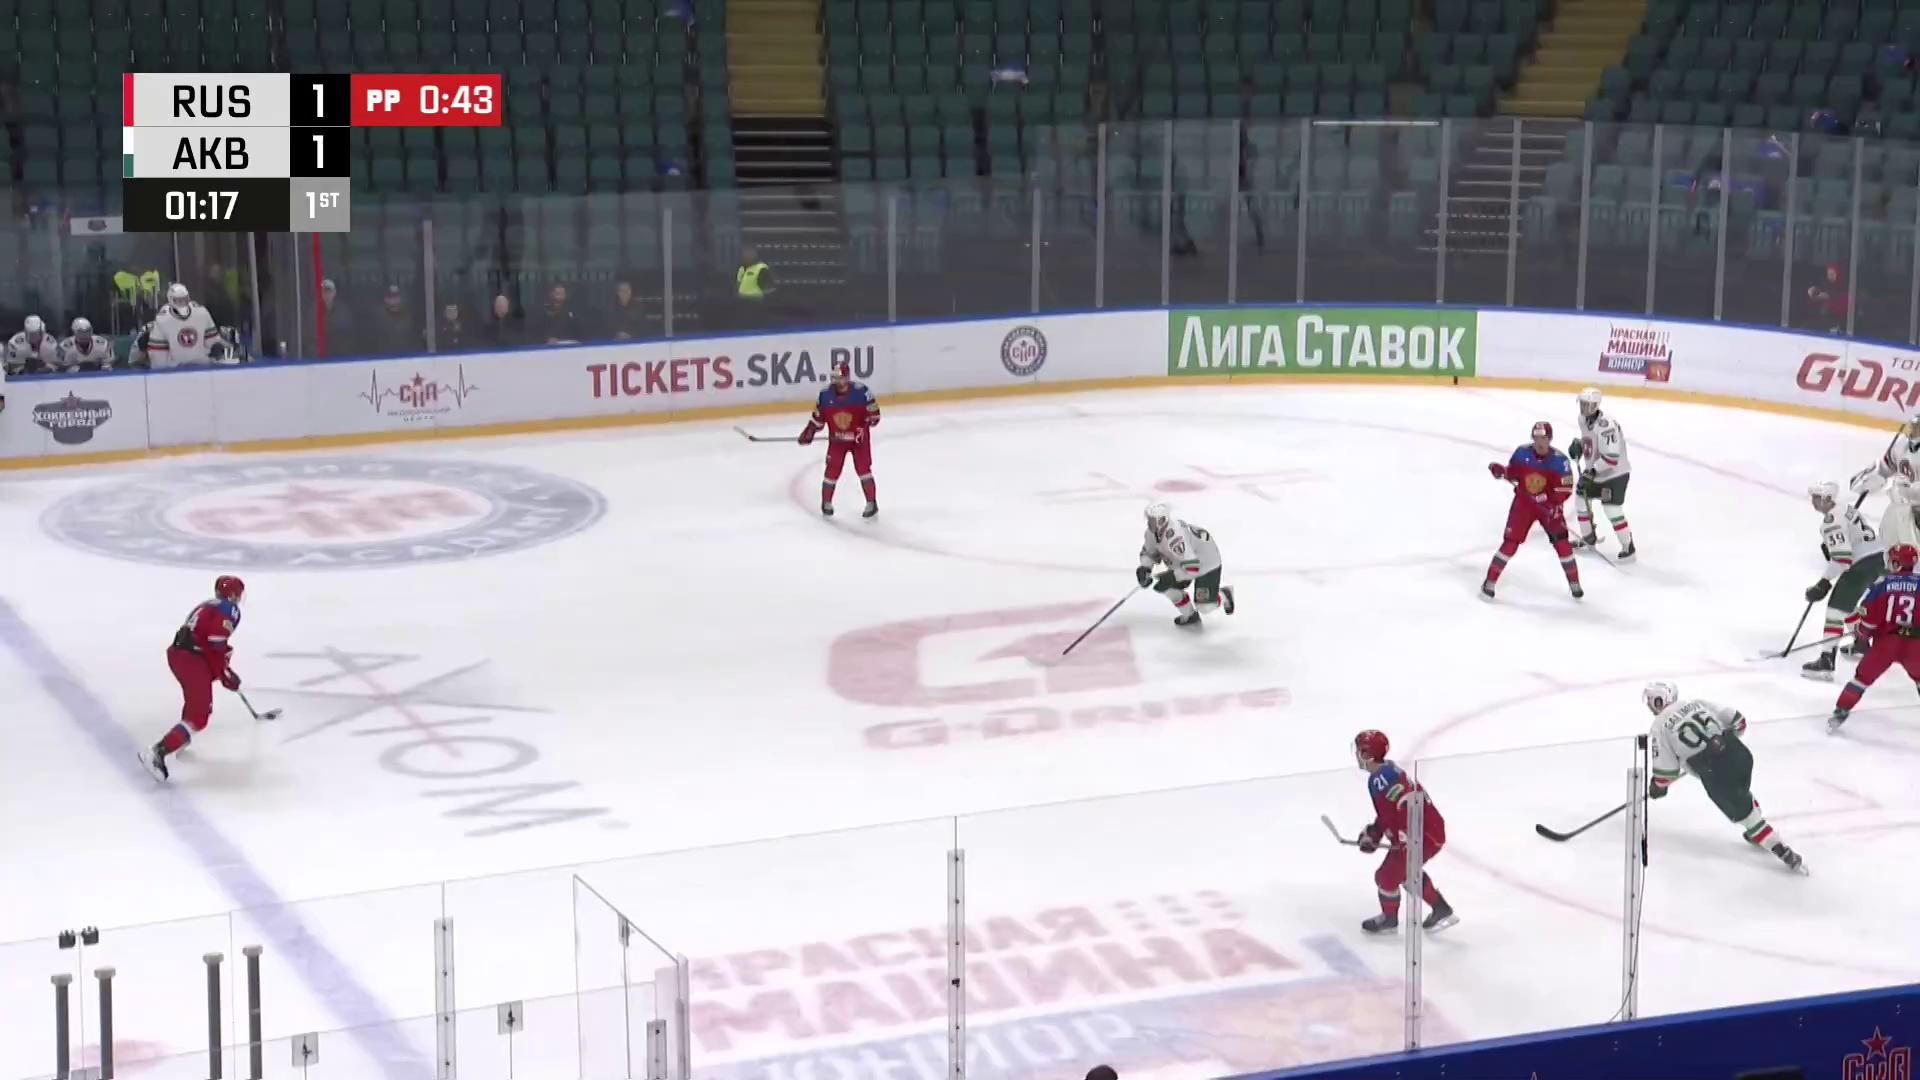ball: (266, 713, 277, 721)
